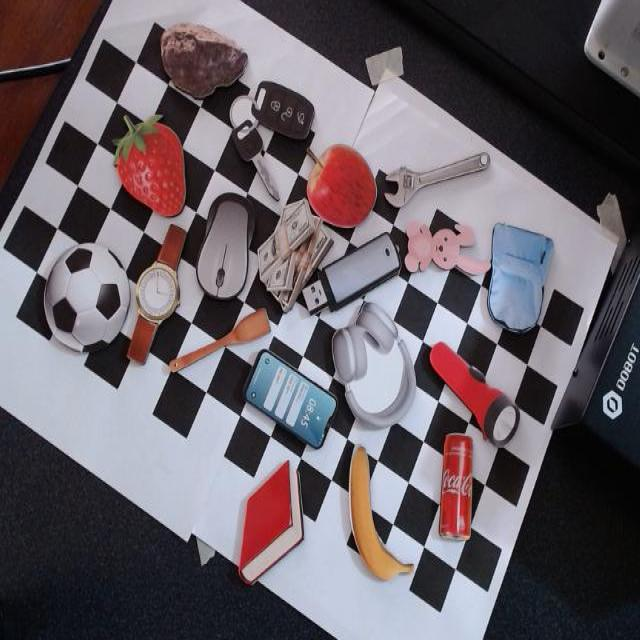Other Objects: (28, 221, 144, 376), (211, 57, 318, 200), (415, 337, 525, 455), (330, 297, 416, 428), (299, 229, 404, 324), (242, 348, 338, 448), (256, 196, 333, 312), (348, 444, 413, 580), (125, 223, 187, 364), (479, 224, 552, 338), (192, 188, 257, 304), (165, 306, 271, 376), (159, 21, 247, 99), (383, 151, 490, 208), (305, 143, 376, 228), (403, 219, 491, 276), (438, 432, 472, 540)
